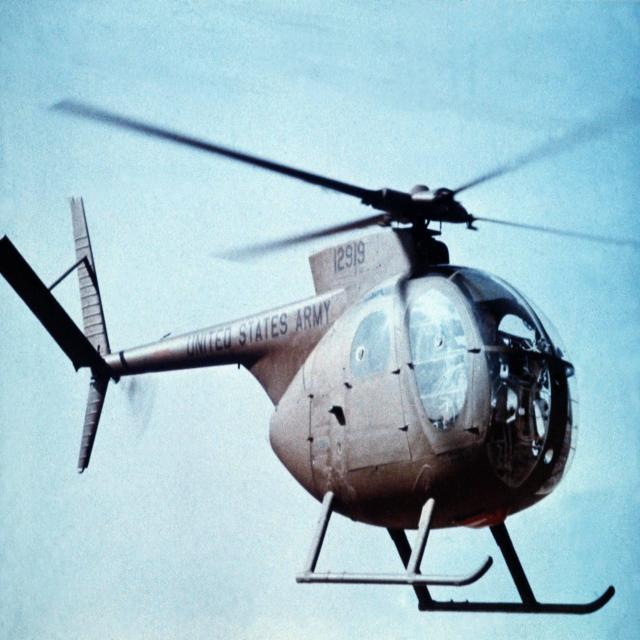MIL_HELO: (5, 72, 630, 627)
